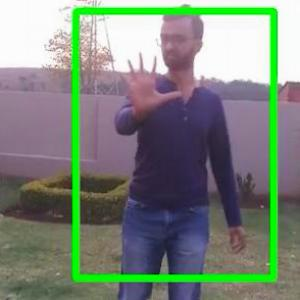follow_hand: (114, 48, 182, 116)
